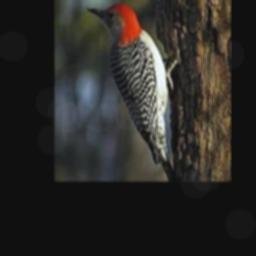Woodpecker: (87, 3, 177, 182)
